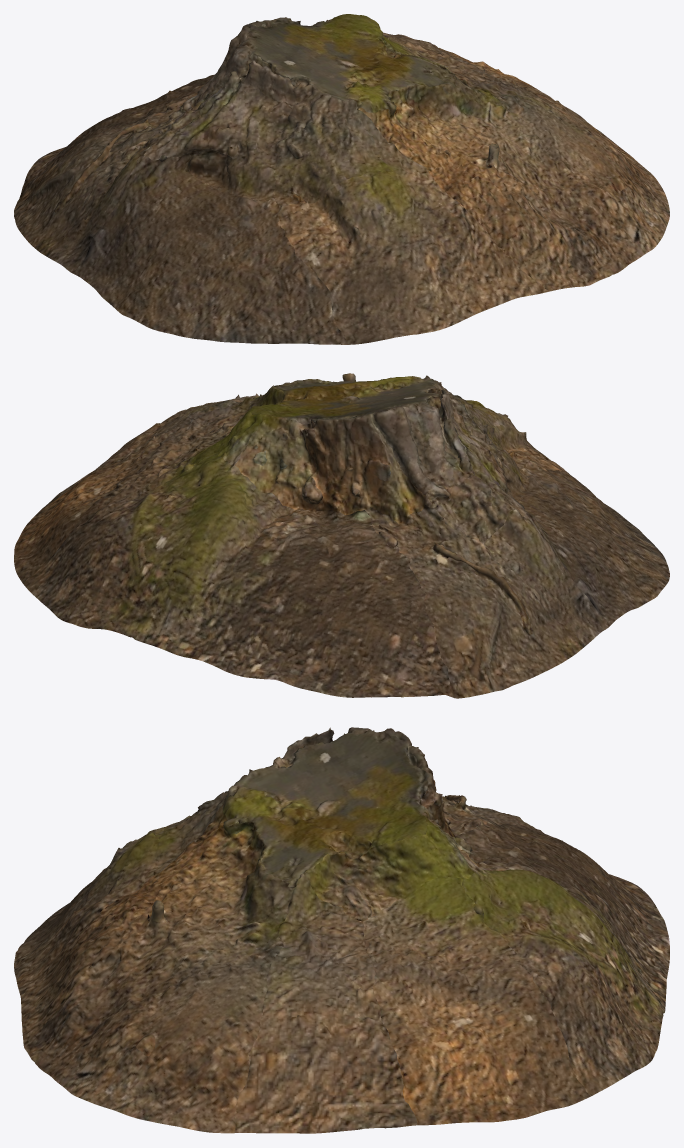
Rendered from tree_stump_02.gltf.
The picture shows the model from 3 angles, top to bottom: view 1: azimuth 30°, elevation 25°; view 2: azimuth 150°, elevation 25°; view 3: azimuth 270°, elevation 25°; orthographic projection. The views are drawn at different scales.
Visible parts, largest first — view 1: tree_stump_02; view 2: tree_stump_02; view 3: tree_stump_02.
Boxes of the visible parts, left/top/right/bottom form: tree_stump_02: left=14, top=14, right=669, bottom=344; tree_stump_02: left=14, top=373, right=669, bottom=698; tree_stump_02: left=14, top=727, right=669, bottom=1133.
Bounding box in the file's own units: 1.52 × 0.5221 × 1.39.
1 material, 1 textured.
